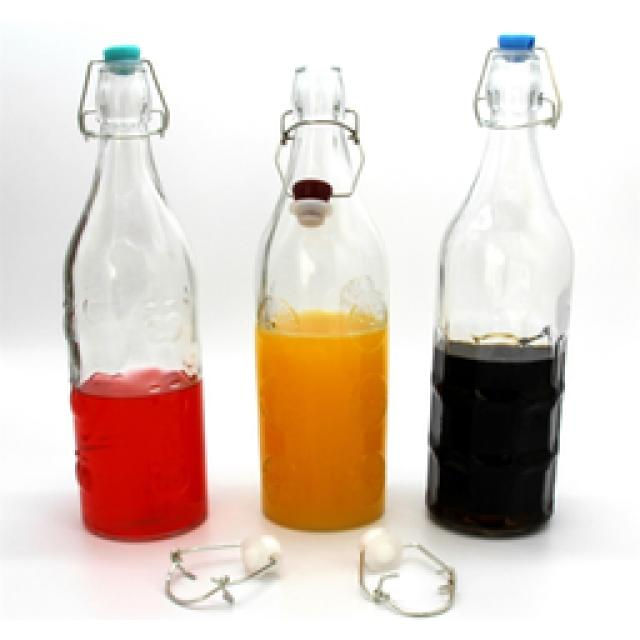glass_beverage_bottles: (55, 46, 218, 536), (434, 27, 564, 545)
